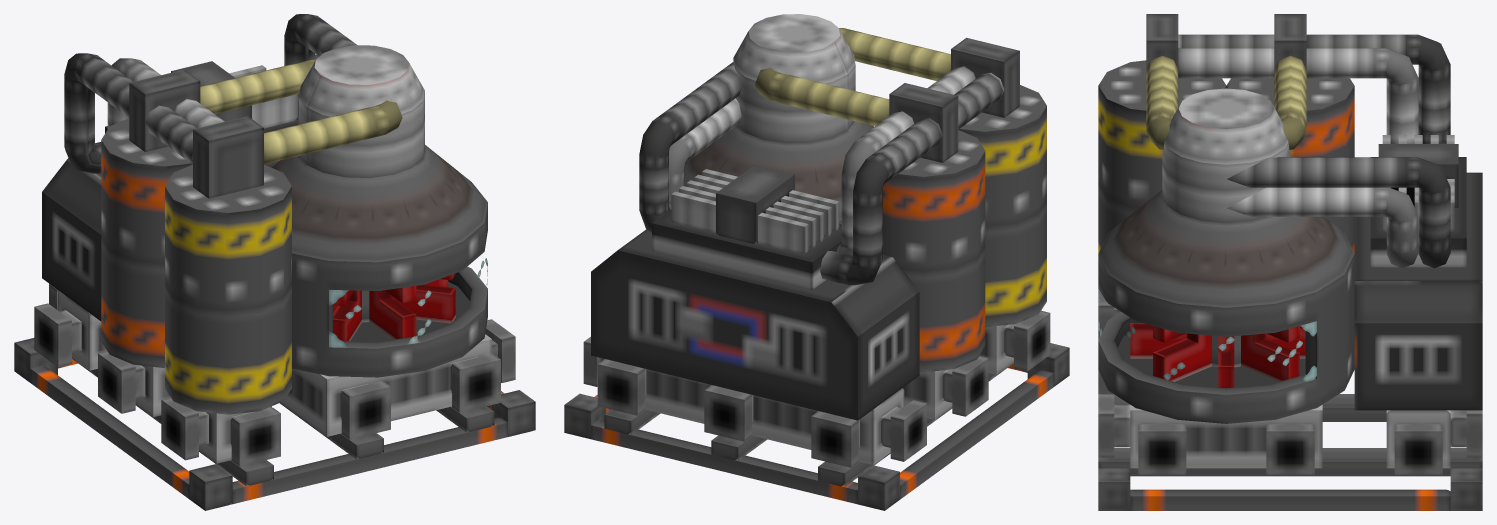
The model's file is machine_chemical_plant_base.obj.
The picture shows the model from 3 angles, left to right: view 1: azimuth 30°, elevation 25°; view 2: azimuth 150°, elevation 25°; view 3: azimuth 270°, elevation 25°; orthographic projection. The views are drawn at different scales.
Parts seen in each view (by area): view 1: Base, Spinner, Slider; view 2: Base, Slider; view 3: Base, Spinner, Slider.
Boxes of the visible parts, bbox=[...] form: Base: bbox=[14, 14, 535, 510]; Spinner: bbox=[333, 273, 455, 341]; Slider: bbox=[171, 61, 251, 121]; Base: bbox=[564, 14, 1069, 510]; Slider: bbox=[716, 165, 794, 243]; Base: bbox=[1098, 14, 1482, 510]; Spinner: bbox=[1130, 323, 1305, 387]; Slider: bbox=[1378, 144, 1458, 207].
Bounding box in the file's own units: 3 × 3 × 3.
